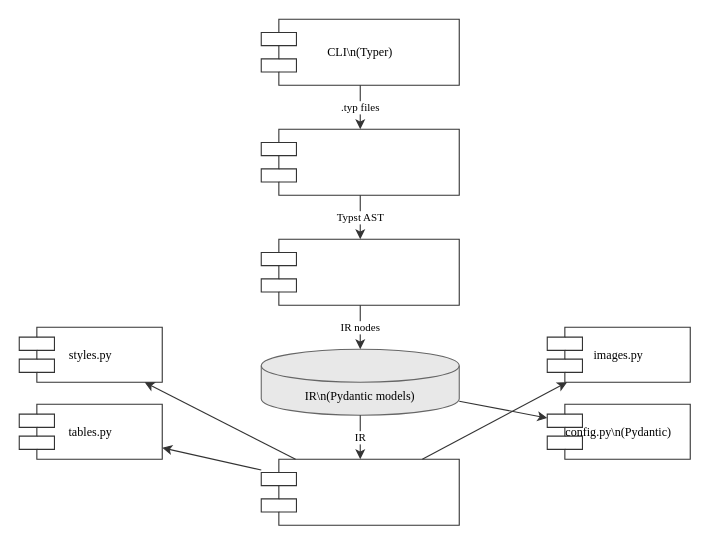
The diagram is 710 pixels wide and 545 high, and some of its shapes have lost their labels. Here are the shapes that lost their labels. From the top down, the centre of each, then its label:
the point at 359,161: Ingest\n(project_loader)
the point at 359,271: Parser\n(scanner + extractor)
the point at 359,491: Writer\n(docx_writer)
